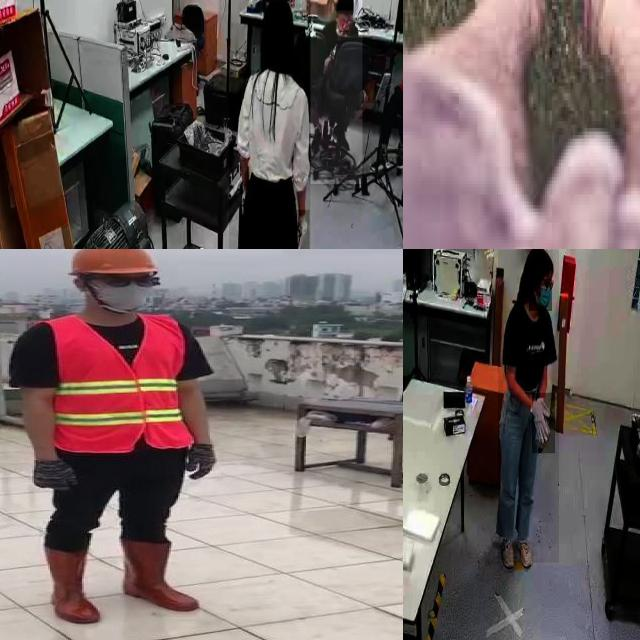Sandals: (433, 0, 640, 94)
boots: (115, 536, 214, 614), (40, 544, 100, 628)
face_mask: (529, 279, 552, 311)
face_nomask: (336, 14, 352, 32)
hand_glove: (532, 393, 556, 454), (295, 209, 310, 249)
head_helmet: (61, 249, 155, 278)
head_nohelmet: (521, 249, 552, 271), (263, 0, 292, 23), (334, 0, 353, 11)
person: (1, 249, 232, 625), (229, 0, 311, 249), (498, 250, 560, 564), (310, 0, 363, 184), (384, 0, 403, 194)
shoes: (513, 527, 534, 571), (496, 527, 516, 572)
vest: (39, 314, 194, 452)
